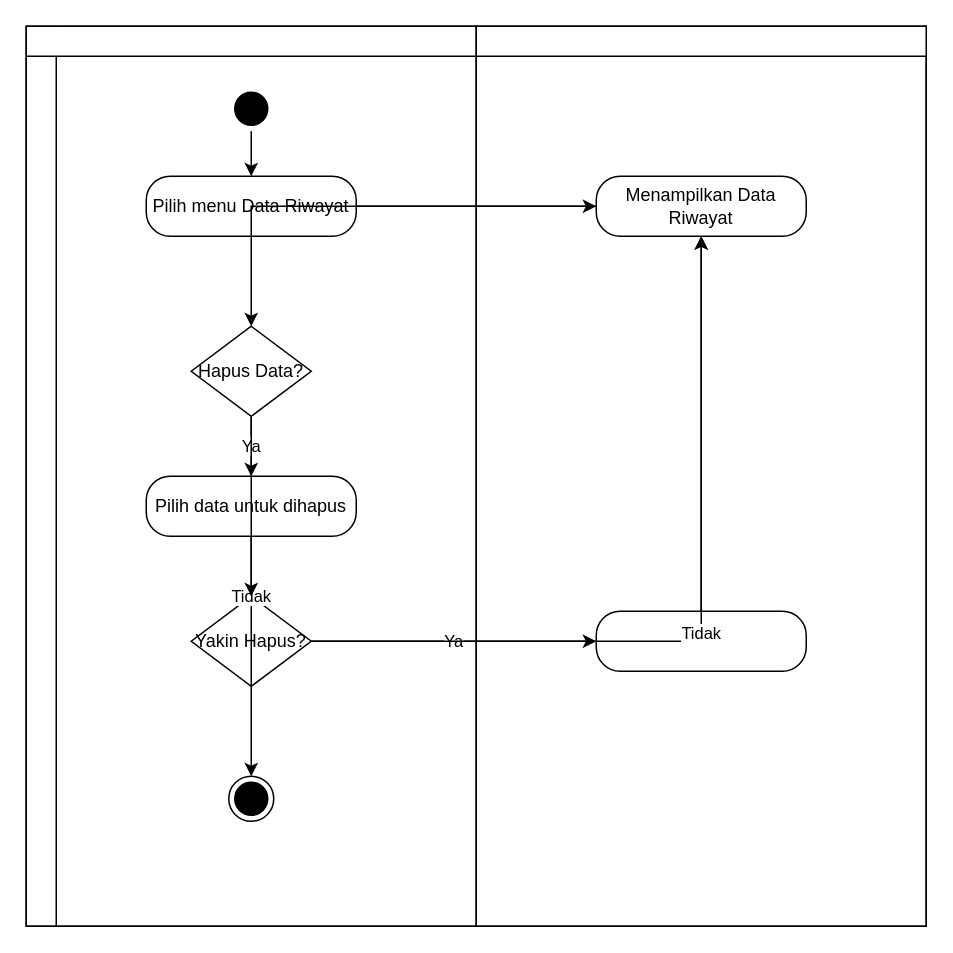
The diagram is 953 pixels wide and 953 high, and some of its shapes have lost their labels. The shapes that lost their labels are listed below. From the top down, each one's box as (x1, y1, x2, y2) in pixels, then its label:
(25, 25, 476, 926): Admin
(475, 25, 926, 926): Sistem
(595, 610, 806, 671): Menghapus Data Riwayat
